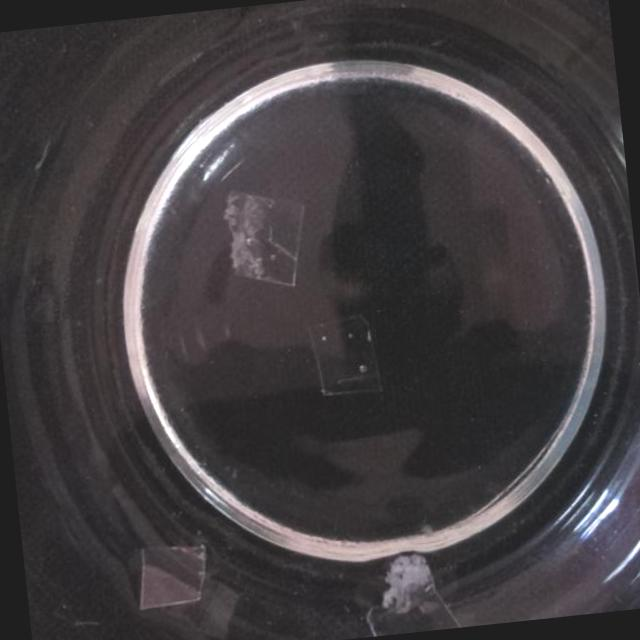fiber: (338, 540, 482, 638), (210, 170, 317, 301), (294, 302, 404, 425), (125, 534, 214, 628)
